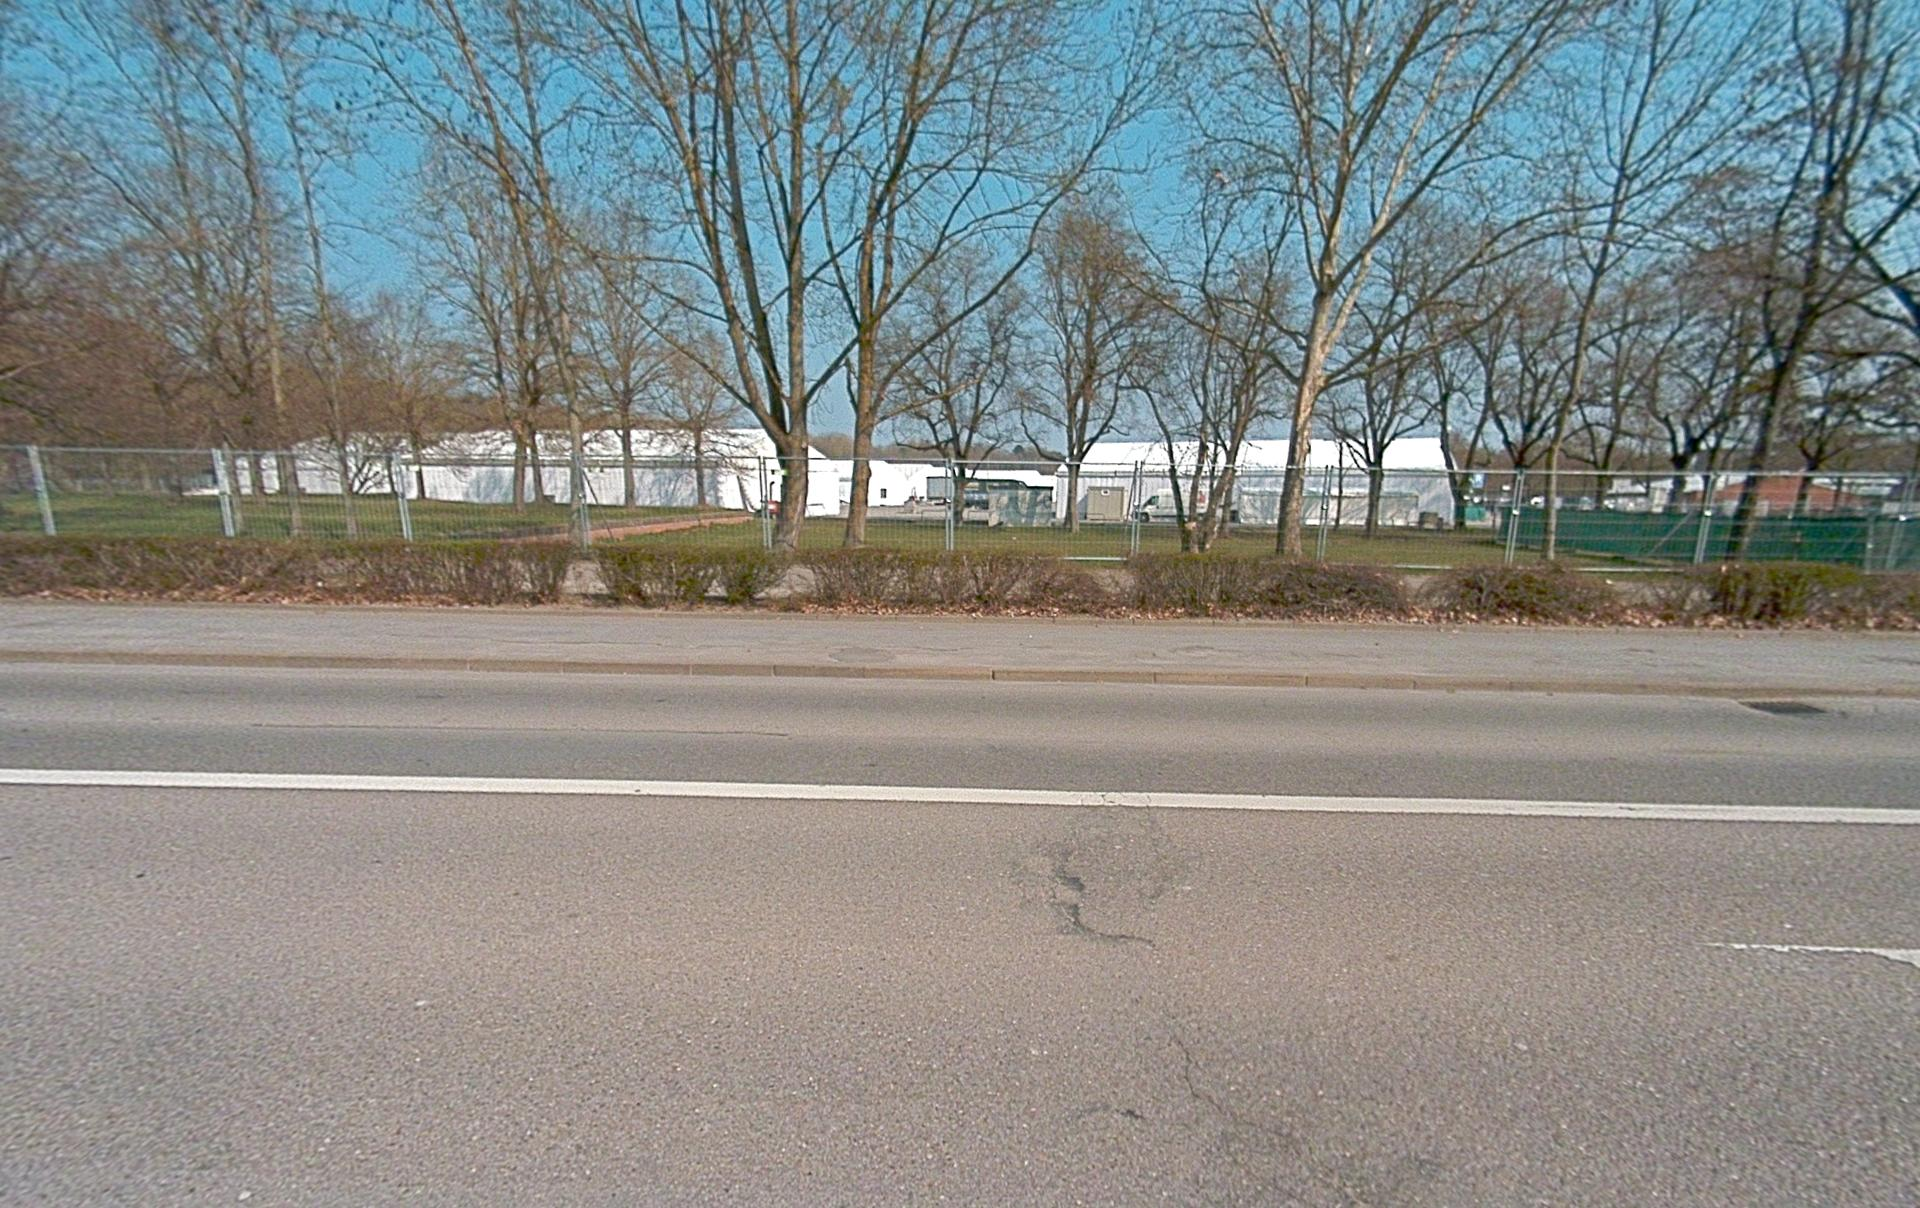car: (1130, 490, 1241, 525)
